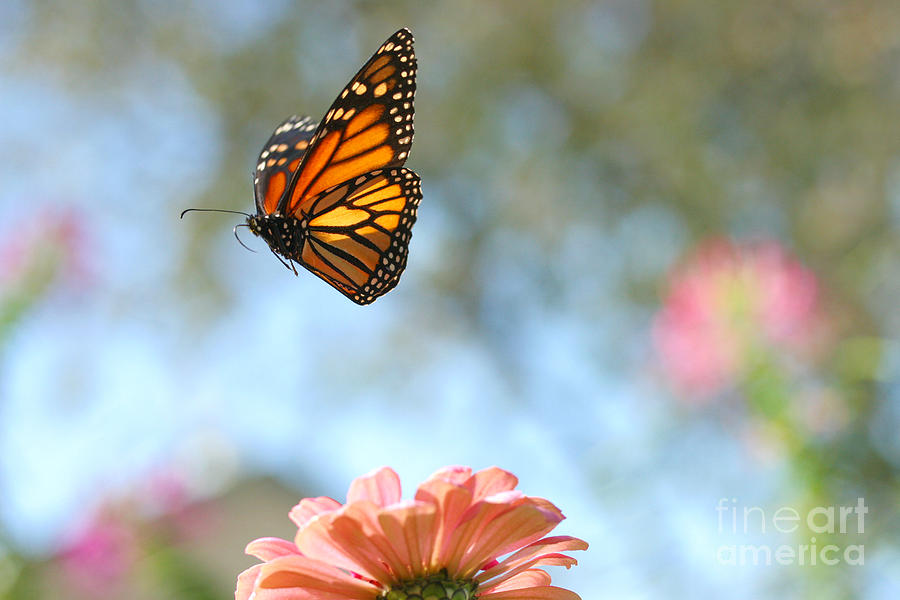Butterfly: (178, 28, 426, 311)
